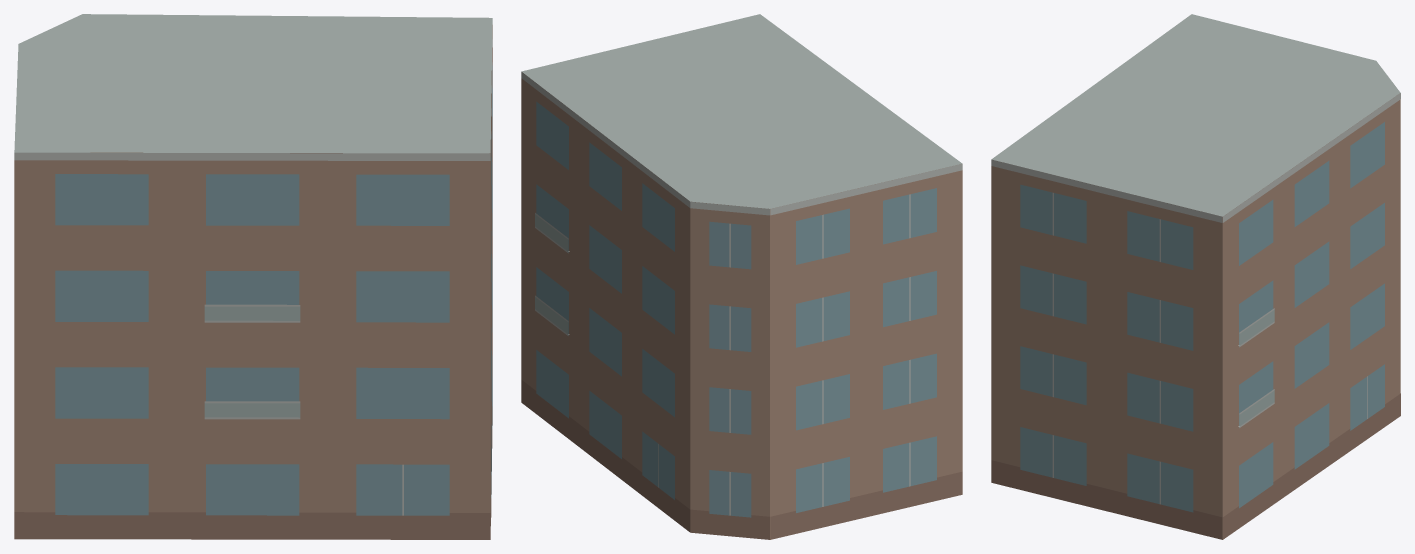
Rendered from survey-upis-33024638.glb.
3 views of the same model, side by side, from view 1: azimuth 30°, elevation 25°; view 2: azimuth 150°, elevation 25°; view 3: azimuth 270°, elevation 25° (orthographic). The views are drawn at different scales.
Parts seen in each view (by area): view 1: survey-upis-33024638.tmp; view 2: survey-upis-33024638.tmp; view 3: survey-upis-33024638.tmp.
Part boxes in pixels (<box>): survey-upis-33024638.tmp: <box>14,14,492,539</box>; survey-upis-33024638.tmp: <box>521,14,962,539</box>; survey-upis-33024638.tmp: <box>991,14,1400,539</box>.
Bounding box in the file's own units: 16.42 × 12.2 × 14.02.
